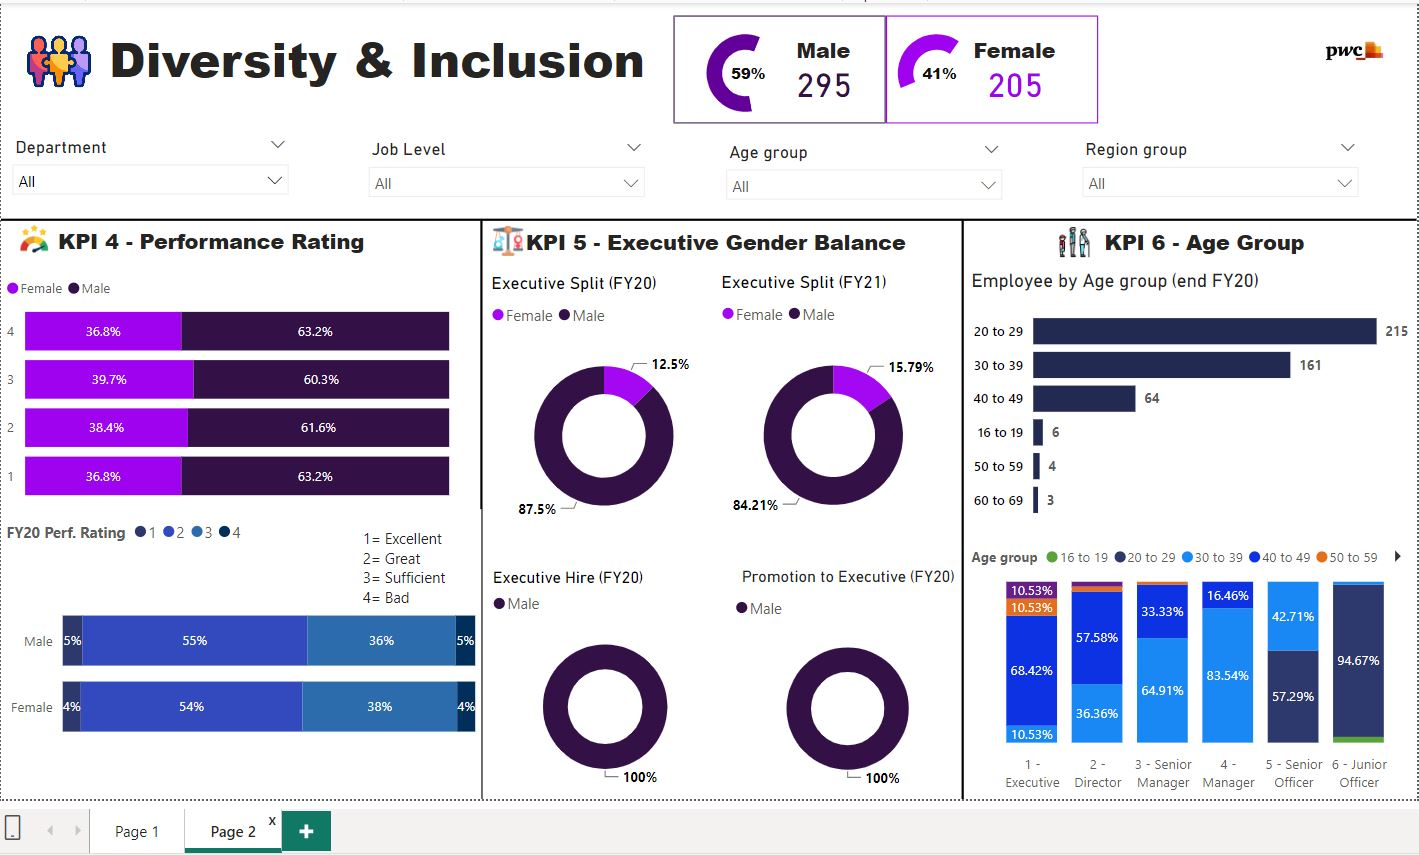

The dashboard page shown, as its layout file describes it:
{"tool":"powerbi","page":{"name":"Page 2","canvas":[1280,720],"ordinal":1},"visuals":[{"type":"shape","box":[800,11.6,191.9,97.7],"z":0},{"type":"card","fields":{"Values":["All Measurement.Total Male"]},"box":[694.2,44.2,101.2,57],"z":0,"group":"g1"},{"type":"card","fields":{"Values":["All Measurement.Female"]},"box":[866.3,44.2,101.2,57],"z":0,"group":"g2"},{"type":"textbox","box":[93,15.1,515.1,75.6],"z":1000},{"type":"donutChart","fields":{"Category":["Pharma Group AG.Gender"],"Y":["CountNonNull(Pharma Group AG.Employee ID)"]},"box":[623.3,15.1,100.9,97.7],"z":1000,"group":"g1"},{"type":"donutChart","fields":{"Category":["Pharma Group AG.Gender"],"Y":["CountNonNull(Pharma Group AG.Employee ID)"]},"box":[795.4,15.1,100.9,97.7],"z":1000,"group":"g2"},{"type":"textbox","box":[690.7,24.4,109.3,39.5],"z":2000,"group":"g1"},{"type":"textbox","box":[862.8,24.4,109.3,39.5],"z":2000,"group":"g2"},{"type":"slicer","fields":{"Values":["Pharma Group AG.Last Department in FY20"]},"box":[0,116.3,270,64],"z":2000},{"type":"actionButton","box":[12.8,24.4,80.2,55.8],"z":3000},{"type":"cardVisual","fields":{"Data":["All Measurement.% Male"]},"box":[639.6,30.2,74.4,60.5],"z":3000,"group":"g1"},{"type":"cardVisual","fields":{"Data":["All Measurement.% Female"]},"box":[811.7,30.2,74.4,60.5],"z":3000,"group":"g2"},{"type":"image","box":[1168.6,0,111.6,80.2],"z":4000},{"type":"shape","box":[608.1,11.6,191.9,97.7],"z":5000},{"type":"group","id":"g1","title":"Group 1","box":[623.3,15.1,176.7,97.7],"z":6000},{"type":"group","id":"g2","title":"Group 1","box":[795.4,15.1,176.7,97.7],"z":7000},{"type":"slicer","fields":{"Values":["Pharma Group AG.Age group"]},"box":[645,120.9,270,61.6],"z":8000},{"type":"slicer","fields":{"Values":["Pharma Group AG.Region group: nationality 1"]},"box":[967.4,119.1,270,64],"z":9000},{"type":"slicer","fields":{"Values":["Pharma Group AG.Job Level after FY20 promotions"]},"box":[322.5,118.1,270,63],"z":10000},{"type":"hundredPercentStackedBarChart","title":"Kpi1 Hiring","fields":{"Y":["All Measurement.Female","All Measurement.Total Male"],"Category":["Pharma Group AG.FY20 Performance Rating"]},"box":[0,238.4,410.5,219.8],"z":11000,"group":"g3"},{"type":"shape","box":[0,180.2,1280.2,32.6],"z":12000},{"type":"textbox","box":[0,196.7,379.8,45.2],"z":13000},{"type":"shape","box":[855.8,196.5,27.9,523.3],"z":14000},{"type":"shape","box":[420.5,196.7,27.9,523.3],"z":15000},{"type":"textbox","box":[896.5,197.7,383.7,46.5],"z":16000},{"type":"textbox","box":[457,197.7,379.1,45.3],"z":17000},{"type":"donutChart","title":"Executive Split (FY20)","fields":{"Category":["Pharma Group AG.Gender"],"Y":["All Measurement.Female","All Measurement.Total Male"]},"box":[438.6,244.1,213.6,247.5],"z":21000},{"type":"hundredPercentStackedBarChart","fields":{"Category":["Pharma Group AG.Gender"],"Series":["Pharma Group AG.FY20 Performance Rating"],"Y":["All Measurement.Total Employee"]},"box":[0,457.8,434,262.2],"z":22000,"group":"g3"},{"type":"textbox","box":[322.1,470.2,106.2,81.4],"z":23000,"group":"g3"},{"type":"group","id":"g3","title":"Group 2","box":[0,238.4,434,481.6],"z":23001},{"type":"donutChart","title":"Executive Split (FY21)","fields":{"Category":["Pharma Group AG.Gender"],"Y":["All Measurement.Female","All Measurement.Total Male"]},"box":[646.8,243.2,212.5,248.6],"z":23002},{"type":"donutChart","title":"Executive Hire (FY20)","fields":{"Category":["Pharma Group AG.Gender"],"Y":["All Measurement.Female","All Measurement.Total Male"]},"box":[439.7,510.9,213.6,209.1],"z":23003},{"type":"donutChart","title":"Promotion to Executive (FY20) ","fields":{"Category":["Pharma Group AG.Gender"],"Y":["All Measurement.Female","All Measurement.Total Male"]},"box":[659,509.8,213.6,210.2],"z":23004},{"type":"clusteredBarChart","title":"Employee by Age group (end FY20)","fields":{"Category":["Pharma Group AG.Age group"],"Y":["All Measurement.Total Employee"]},"box":[872.6,240.8,406.9,238.5],"z":23005},{"type":"hundredPercentStackedColumnChart","fields":{"Category":["Pharma Group AG.Job Level after FY21 promotions"],"Y":["All Measurement.Total Employee"],"Series":["Pharma Group AG.Age group"]},"box":[872.6,481.5,408,238.5],"z":23006},{"type":"image","box":[12.4,195.5,35,35],"z":23007},{"type":"image","box":[438.6,196.7,40,37],"z":23008},{"type":"image","box":[950.6,197.8,40,37],"z":23009}]}

Visuals, with their boxes on the page's 1280x720 design canvas (x1, y1, x2, y2). These are canvas units, not pixel positions in the 1419x855 screenshot, which may show the page scaled, cropped or inside an application window:
shape: [left=800, top=12, right=992, bottom=109]
card - All Measurement.Total Male: [left=694, top=44, right=795, bottom=101]
card - All Measurement.Female: [left=866, top=44, right=968, bottom=101]
textbox: [left=93, top=15, right=608, bottom=91]
donutChart - Pharma Group AG.Gender x CountNonNull(Pharma Group AG.Employee ID): [left=623, top=15, right=724, bottom=113]
donutChart - Pharma Group AG.Gender x CountNonNull(Pharma Group AG.Employee ID): [left=795, top=15, right=896, bottom=113]
textbox: [left=691, top=24, right=800, bottom=64]
textbox: [left=863, top=24, right=972, bottom=64]
slicer - Pharma Group AG.Last Department in FY20: [left=0, top=116, right=270, bottom=180]
actionButton: [left=13, top=24, right=93, bottom=80]
cardVisual - All Measurement.% Male: [left=640, top=30, right=714, bottom=91]
cardVisual - All Measurement.% Female: [left=812, top=30, right=886, bottom=91]
image: [left=1169, top=0, right=1280, bottom=80]
shape: [left=608, top=12, right=800, bottom=109]
"Group 1" group: [left=623, top=15, right=800, bottom=113]
"Group 1" group: [left=795, top=15, right=972, bottom=113]
slicer - Pharma Group AG.Age group: [left=645, top=121, right=915, bottom=182]
slicer - Pharma Group AG.Region group: nationality 1: [left=967, top=119, right=1237, bottom=183]
slicer - Pharma Group AG.Job Level after FY20 promotions: [left=322, top=118, right=592, bottom=181]
"Kpi1 Hiring" hundredPercentStackedBarChart: [left=0, top=238, right=410, bottom=458]
shape: [left=0, top=180, right=1280, bottom=213]
textbox: [left=0, top=197, right=380, bottom=242]
shape: [left=856, top=196, right=884, bottom=720]
shape: [left=420, top=197, right=448, bottom=720]
textbox: [left=896, top=198, right=1280, bottom=244]
textbox: [left=457, top=198, right=836, bottom=243]
"Executive Split (FY20)" donutChart: [left=439, top=244, right=652, bottom=492]
hundredPercentStackedBarChart - Pharma Group AG.Gender x Pharma Group AG.FY20 Performance Rating: [left=0, top=458, right=434, bottom=720]
textbox: [left=322, top=470, right=428, bottom=552]
"Group 2" group: [left=0, top=238, right=434, bottom=720]
"Executive Split (FY21)" donutChart: [left=647, top=243, right=859, bottom=492]
"Executive Hire (FY20)" donutChart: [left=440, top=511, right=653, bottom=720]
"Promotion to Executive (FY20) " donutChart: [left=659, top=510, right=873, bottom=720]
"Employee by Age group (end FY20)" clusteredBarChart: [left=873, top=241, right=1280, bottom=479]
hundredPercentStackedColumnChart - Pharma Group AG.Job Level after FY21 promotions x All Measurement.Total Employee: [left=873, top=482, right=1281, bottom=720]
image: [left=12, top=196, right=47, bottom=230]
image: [left=439, top=197, right=479, bottom=234]
image: [left=951, top=198, right=991, bottom=235]
